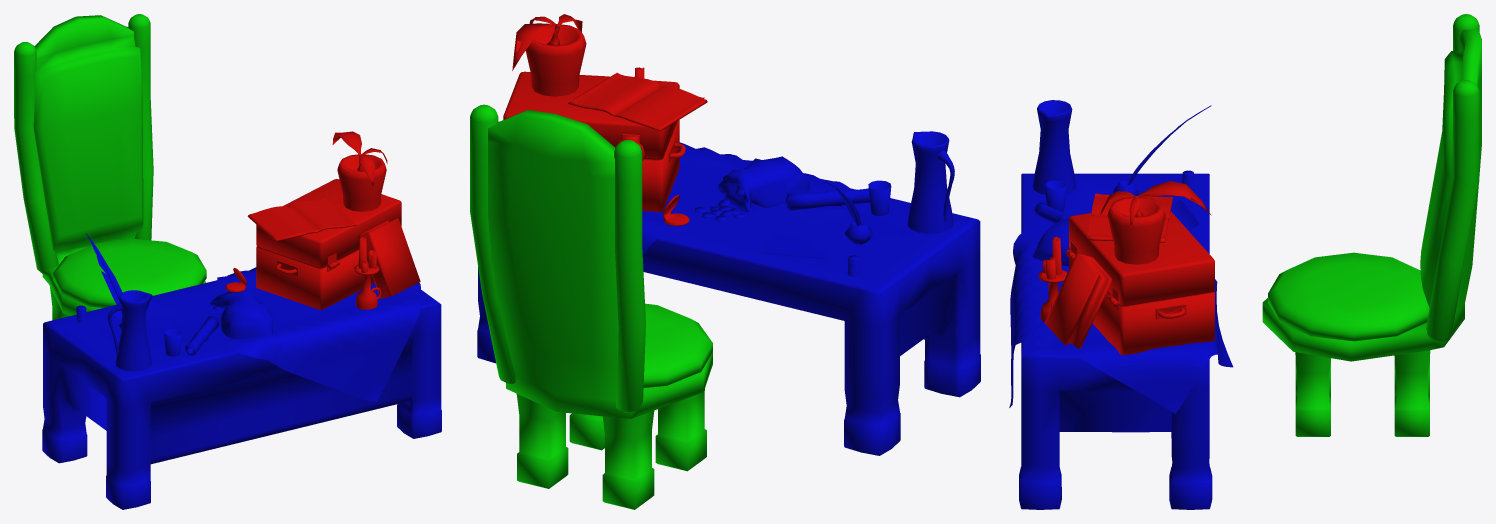
The picture shows the model from 3 angles, left to right: view 1: azimuth 30°, elevation 25°; view 2: azimuth 150°, elevation 25°; view 3: azimuth 270°, elevation 25°; orthographic projection. The views are drawn at different scales.
Visible parts, largest first — view 1: Plane, Cube.002, Cylinder.001; view 2: Cube.002, Plane, Cylinder.001; view 3: Plane, Cube.002, Cylinder.001.
Part boxes in pixels (box(x1,y1,x2,y2)): Plane: box(42, 233, 441, 509); Cube.002: box(14, 14, 206, 320); Cylinder.001: box(225, 131, 420, 309); Cube.002: box(470, 104, 712, 509); Plane: box(477, 131, 980, 455); Cylinder.001: box(503, 14, 707, 225); Plane: box(1009, 100, 1233, 509); Cube.002: box(1262, 14, 1481, 436); Cylinder.001: box(1038, 181, 1214, 355).
Size of the model in its own units: 487 by 435 by 502.
